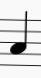A: (7, 9, 29, 71)
